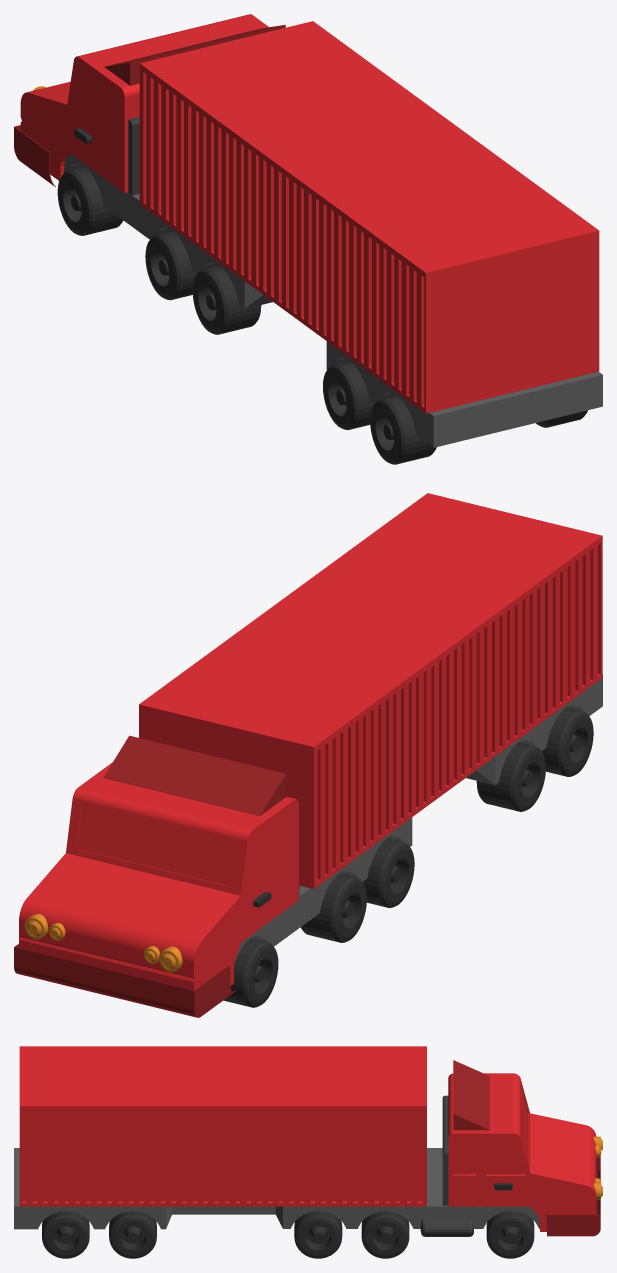
The picture shows the model from 3 angles, top to bottom: view 1: azimuth 30°, elevation 25°; view 2: azimuth 150°, elevation 25°; view 3: azimuth 270°, elevation 25°; orthographic projection. The views are drawn at different scales.
Visible parts, largest first — view 1: Kubus.002, Silinder.001, Kubus, Plane, Kubus.001, Kubus.007, Kubus.004; view 2: Kubus.002, Kubus, Silinder.001, Kubus.001, Kubus.007, Plane, Silinder.003; view 3: Kubus.002, Kubus, Silinder.001, Plane, Kubus.001, Kubus.007, Silinder, Kubus.004.
Part boxes in pixels (x1,y1,x2,y2): Kubus.002: [139, 21, 599, 413]; Silinder.001: [57, 167, 587, 464]; Kubus: [20, 14, 268, 193]; Plane: [64, 153, 602, 447]; Kubus.001: [104, 24, 285, 85]; Kubus.007: [14, 125, 55, 187]; Kubus.004: [128, 117, 139, 195]; Kubus.002: [139, 493, 602, 888]; Kubus: [19, 762, 298, 990]; Silinder.001: [223, 707, 593, 1007]; Kubus.001: [103, 735, 285, 815]; Kubus.007: [14, 944, 235, 1017]; Plane: [234, 674, 602, 962]; Silinder.003: [24, 913, 182, 972]; Kubus.002: [19, 1046, 426, 1206]; Kubus: [448, 1073, 596, 1231]; Silinder.001: [42, 1211, 534, 1258]; Plane: [14, 1148, 539, 1229]; Kubus.001: [453, 1060, 489, 1130]; Kubus.007: [545, 1155, 600, 1236]; Silinder: [420, 1219, 473, 1236]; Kubus.004: [442, 1095, 448, 1205].
Bounding box in the file's own units: 4.43 × 4.65 × 16.44.
